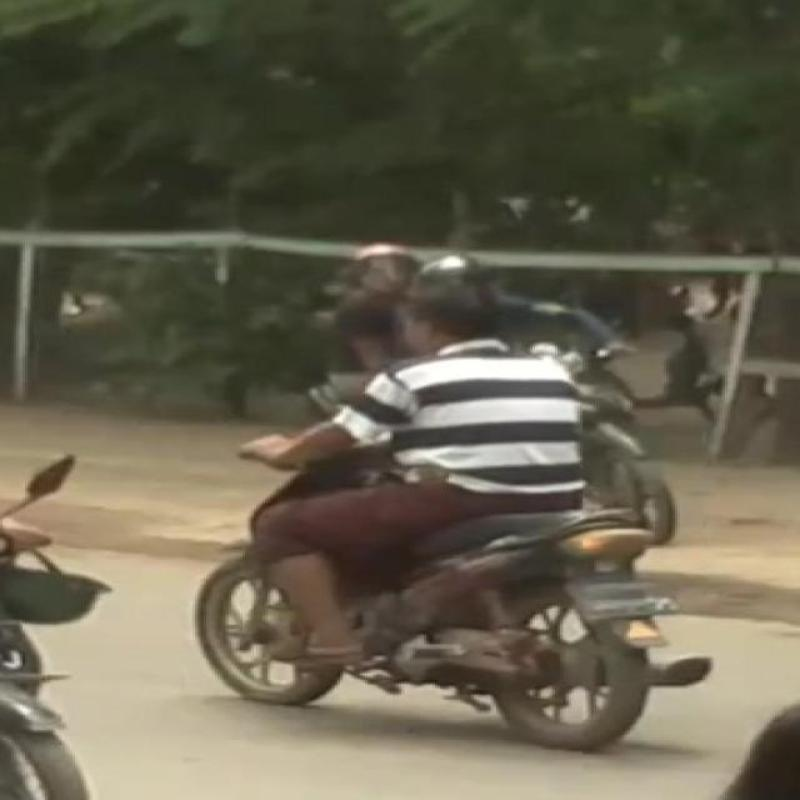nohelmet: (376, 258, 572, 353)
